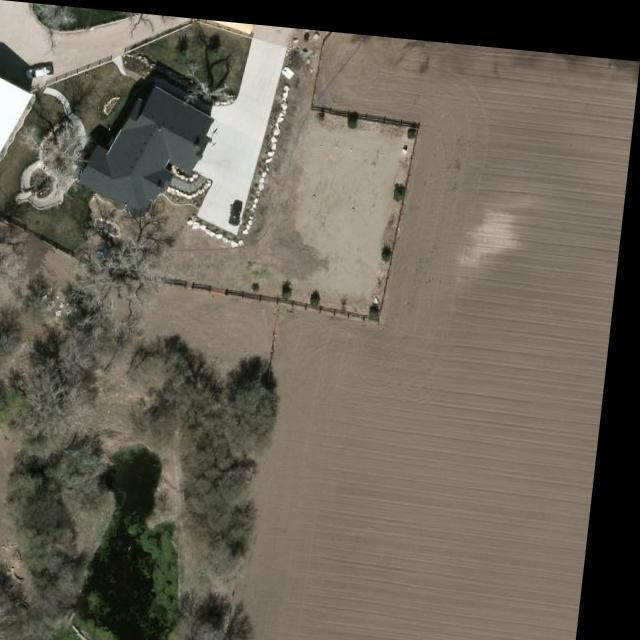vehicle: (27, 63, 57, 81), (232, 197, 248, 221)
